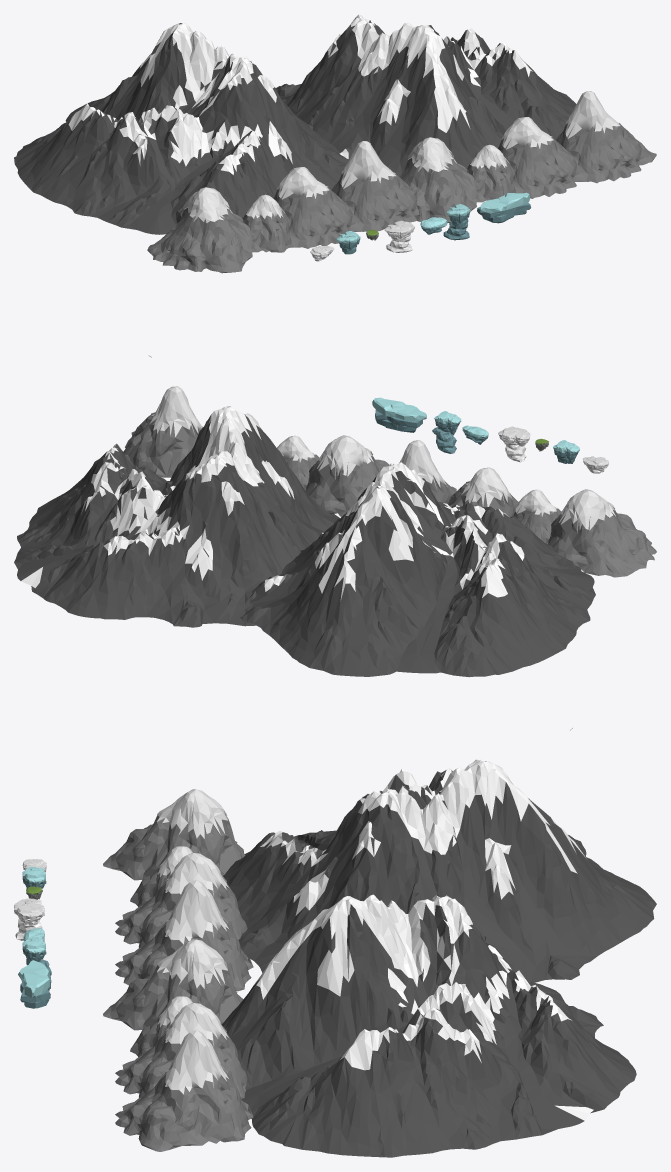
File: level 4.fbx
3 views of the same model, one above another, from view 1: azimuth 30°, elevation 25°; view 2: azimuth 150°, elevation 25°; view 3: azimuth 270°, elevation 25° (orthographic). The views are drawn at different scales.
Parts seen in each view (by area): view 1: Mountain, Mountain.001, gunung.007, gunung, gunung.004, gunung.001, gunung.005, gunung.003, gunung.006, gunung.002, platform 1.004, platform (+1 smaller); view 2: Mountain, Mountain.001, gunung.007, gunung, gunung.003, gunung.005, gunung.006, gunung.004, platform 1.004, gunung.002, platform 1.003, platform; view 3: Mountain.001, Mountain, gunung, gunung.007, gunung.003, gunung.004, gunung.001, gunung.005, platform 1.004, gunung.006, gunung.002, platform (+1 smaller).
Boxes of the visible parts, x1,y1,x2,y2 form: Mountain: [14, 23, 349, 234]; Mountain.001: [275, 14, 576, 176]; gunung.007: [147, 187, 255, 273]; gunung: [556, 91, 656, 183]; gunung.004: [331, 141, 419, 231]; gunung.001: [498, 117, 583, 198]; gunung.005: [273, 167, 359, 248]; gunung.003: [399, 137, 480, 222]; gunung.006: [242, 194, 291, 252]; gunung.002: [466, 144, 515, 202]; platform 1.004: [477, 192, 531, 223]; platform: [384, 220, 414, 252]; Mountain: [240, 462, 595, 677]; Mountain.001: [14, 406, 340, 627]; gunung.007: [547, 489, 656, 577]; gunung: [123, 386, 202, 477]; gunung.003: [305, 435, 389, 517]; gunung.005: [448, 467, 518, 517]; gunung.006: [513, 489, 561, 544]; gunung.004: [399, 440, 456, 503]; platform 1.004: [372, 397, 426, 432]; gunung.002: [277, 435, 319, 490]; platform 1.003: [432, 411, 461, 453]; platform: [498, 426, 530, 462]; Mountain.001: [221, 894, 636, 1157]; Mountain: [223, 759, 656, 983]; gunung: [115, 1030, 253, 1151]; gunung.007: [103, 789, 245, 880]; gunung.003: [103, 939, 243, 1030]; gunung.004: [115, 880, 253, 991]; gunung.001: [115, 1003, 247, 1098]; gunung.005: [115, 853, 247, 947]; platform 1.004: [18, 960, 51, 1008]; gunung.006: [130, 846, 192, 906]; gunung.002: [130, 996, 192, 1056]; platform: [14, 898, 44, 940].
Bounding box in the file's own units: 143328 × 67802 × 118490.
